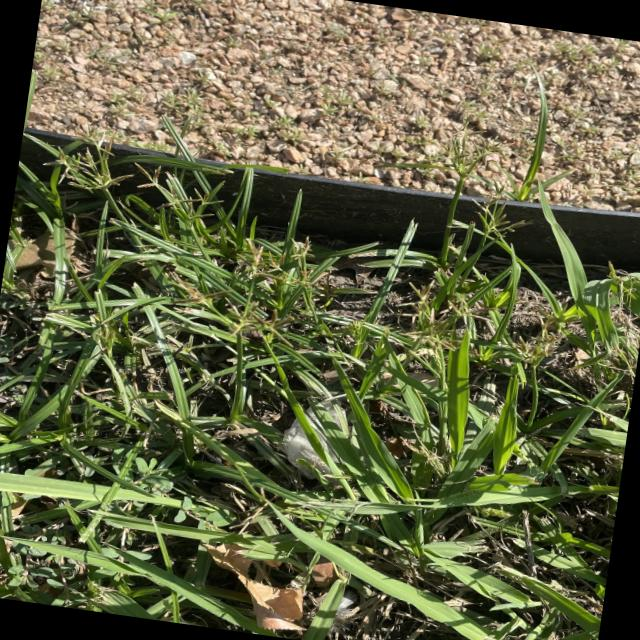cyperus: (430, 106, 544, 244), (214, 236, 300, 350), (396, 276, 496, 372), (34, 114, 140, 198), (128, 155, 232, 232), (496, 302, 570, 376), (160, 264, 236, 322), (260, 232, 321, 295), (85, 308, 132, 362), (340, 314, 370, 346)
